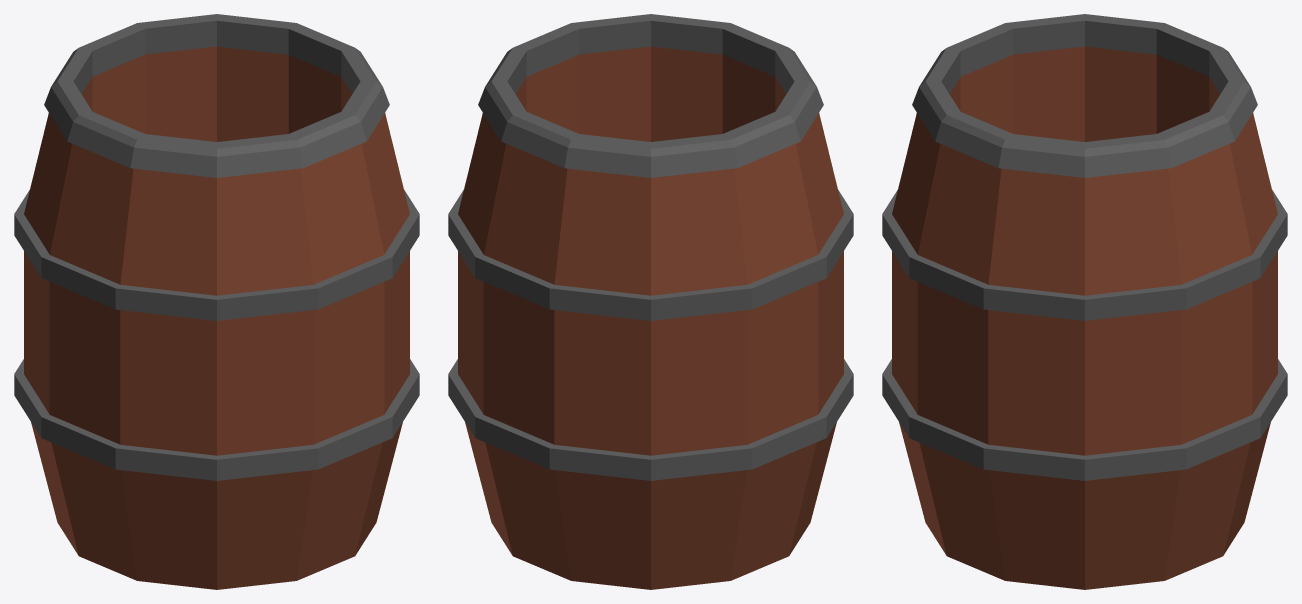
3 renders of one model, left to right at view 1: azimuth 30°, elevation 25°; view 2: azimuth 150°, elevation 25°; view 3: azimuth 270°, elevation 25°, orthographic.
Visible parts, largest first — view 1: Barrel; view 2: Barrel; view 3: Barrel.
Boxes of the visible parts, box(x1,y1,x2,y2) form: Barrel: box(14, 14, 419, 589); Barrel: box(448, 14, 853, 589); Barrel: box(882, 14, 1287, 589).
Size of the model in its own units: 100 by 120 by 100.
